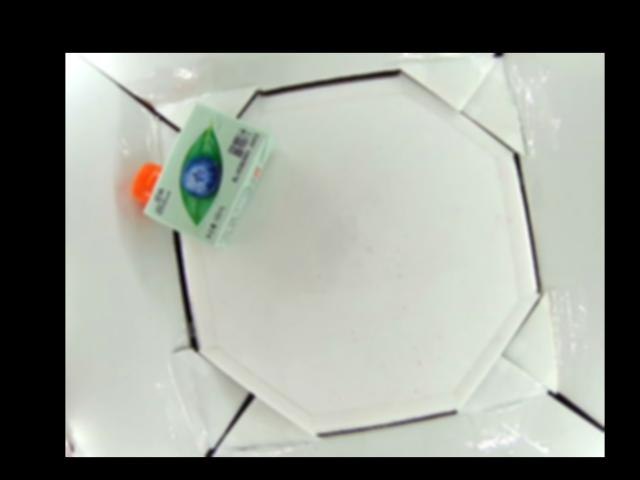Bottle: (128, 99, 276, 248)
